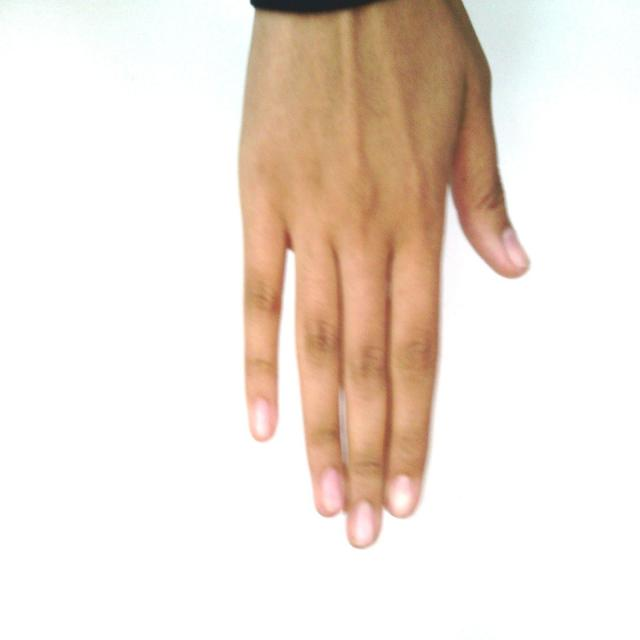others: (180, 0, 556, 551)
